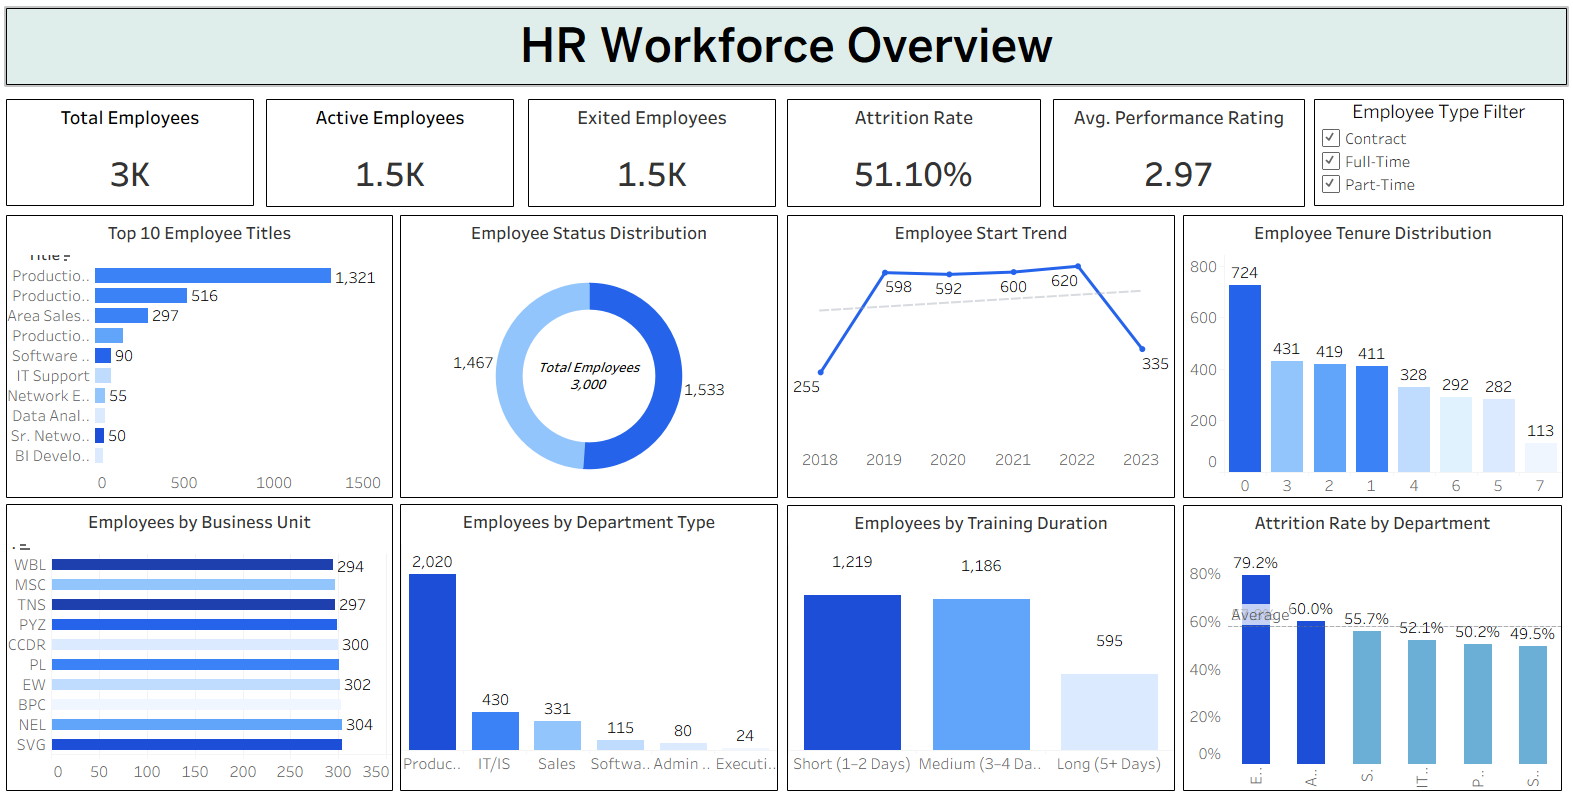

The page's visual inventory and layout, read from the dashboard file:
{"tool":"tableau","page":{"name":"Dashboard 1","canvas":[1000,1000],"units":"permille","ordinal":0},"visuals":[{"type":"text","box":[6.3,12.7,988,95.5]},{"type":"worksheet","title":"Total Employees","mark":"Automatic","box":[6.3,125.9,157,133.4]},{"type":"worksheet","title":"Active Employees","mark":"Automatic","box":[170.9,125.9,157,134.7]},{"type":"worksheet","title":"Exited Employees","mark":"Automatic","box":[336.7,125.9,157,134.7]},{"type":"worksheet","title":"Attrition Rate","mark":"Automatic","box":[500.6,125.9,160.8,134.7]},{"type":"worksheet","title":"Avg. Performance Rating","mark":"Automatic","box":[669,125.9,159.5,134.7]},{"type":"filter","title":"Employee Start Trend","param":"[federated.1j3c06116qgxea0zxkx5c0obclyl].[none:EmployeeType:nk]","box":[834.2,125.9,158.2,133.4]},{"type":"worksheet","title":"Top 10 Employee Titles","mark":"Automatic","rows":["Title"],"cols":["Employee ID"],"box":[6.3,270.6,244.9,352.9]},{"type":"worksheet","title":"Employee Status Distribution","mark":"Pie","rows":["Calculation_1321806505293824007","Calculation_1321806505293824007"],"box":[255.7,270.6,239.2,352.9]},{"type":"worksheet","title":"Employee Start Trend","mark":"Automatic","rows":["Employee ID"],"cols":["StartDate"],"box":[500.6,270.6,245.6,352.9]},{"type":"worksheet","title":"Employee Tenure Distribution","mark":"Automatic","rows":["Employee ID"],"cols":["Average Tenure (Years) (bin)"],"box":[751.3,270.6,240.5,352.9]},{"type":"worksheet","title":"Employees by Business Unit","mark":"Automatic","rows":["BusinessUnit"],"cols":["Employee ID"],"box":[6.3,630.9,244.9,357.9]},{"type":"worksheet","title":"Employees by Department Type","mark":"Automatic","rows":["Calculation_1321806505284063232"],"cols":["DepartmentType"],"box":[255.7,630.9,239.2,357.9]},{"type":"worksheet","title":"Employees by Training Duration","mark":"Automatic","rows":["Calculation_1321806505284063232"],"cols":["Calculation_1321806505356845066"],"box":[500.6,632.2,245.6,356.6]},{"type":"worksheet","title":"Attrition Rate by Department","mark":"Bar","rows":["Calculation_1321806505291161603"],"cols":["DepartmentType"],"box":[751.3,632.2,239.9,356.6]}]}

Visuals, with their boxes on the dashboard's canvas, which has no fixed pixel size, in thousandths of its width and height (x1, y1, x2, y2). These are canvas units, not pixel positions in the 1573x797 screenshot, which may show the page scaled, cropped or inside an application window:
text: Rect(6, 13, 994, 108)
"Total Employees" worksheet: Rect(6, 126, 163, 259)
"Active Employees" worksheet: Rect(171, 126, 328, 261)
"Exited Employees" worksheet: Rect(337, 126, 494, 261)
"Attrition Rate" worksheet: Rect(501, 126, 661, 261)
"Avg. Performance Rating" worksheet: Rect(669, 126, 828, 261)
"Employee Start Trend" filter: Rect(834, 126, 992, 259)
"Top 10 Employee Titles" worksheet: Rect(6, 271, 251, 624)
"Employee Status Distribution" worksheet (Pie marks): Rect(256, 271, 495, 624)
"Employee Start Trend" worksheet: Rect(501, 271, 746, 624)
"Employee Tenure Distribution" worksheet: Rect(751, 271, 992, 624)
"Employees by Business Unit" worksheet: Rect(6, 631, 251, 989)
"Employees by Department Type" worksheet: Rect(256, 631, 495, 989)
"Employees by Training Duration" worksheet: Rect(501, 632, 746, 989)
"Attrition Rate by Department" worksheet (Bar marks): Rect(751, 632, 991, 989)
